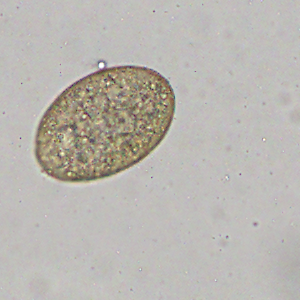Fasciola_hepatica_egg: (33, 64, 177, 183)
